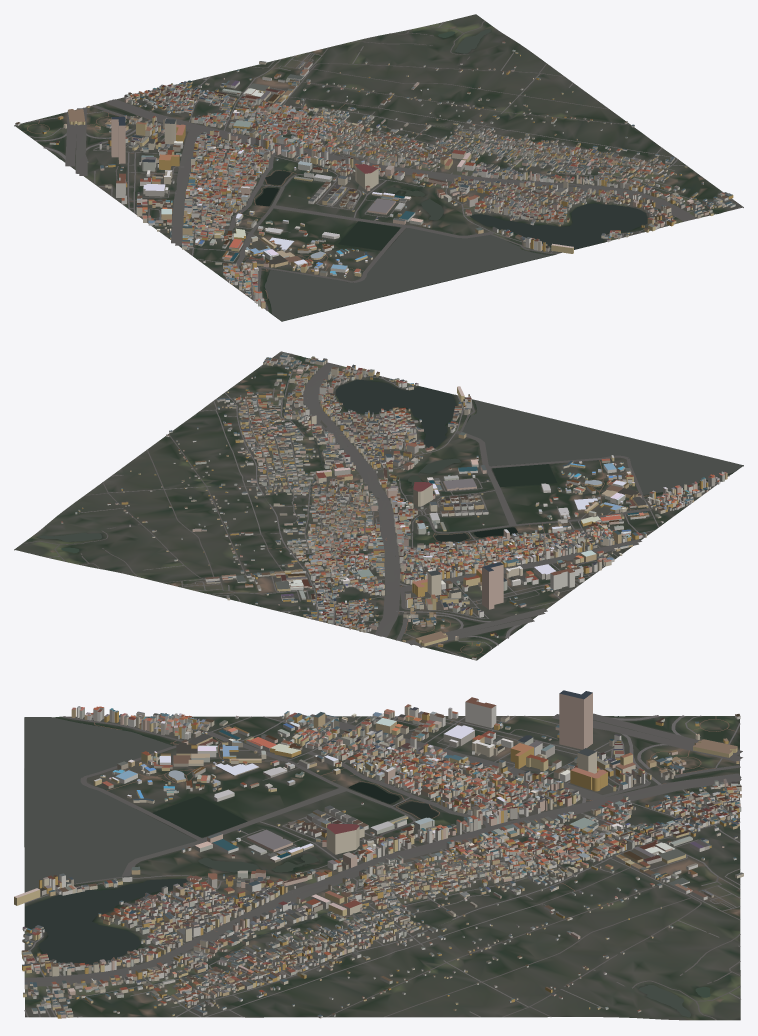
3 views of the same model, one above another, from view 1: azimuth 30°, elevation 25°; view 2: azimuth 150°, elevation 25°; view 3: azimuth 270°, elevation 25° (orthographic). The views are drawn at different scales.
Visible parts, largest first — view 1: ground, buildings, water, roads; view 2: ground, buildings, water, roads; view 3: ground, buildings, water, roads.
Boxes of the visible parts, box(x1,y1,x2,y2) form: ground: box(14, 14, 743, 321); buildings: box(15, 41, 735, 308); water: box(59, 29, 719, 321); roads: box(23, 20, 742, 310); ground: box(14, 351, 743, 660); buildings: box(61, 353, 727, 660); water: box(38, 357, 742, 627); roads: box(23, 352, 729, 657); ground: box(24, 716, 740, 1020); buildings: box(14, 690, 743, 1018); water: box(24, 716, 710, 1017); roads: box(24, 713, 742, 1020).
Size of the model in its own units: 1417 by 119 by 1430.
